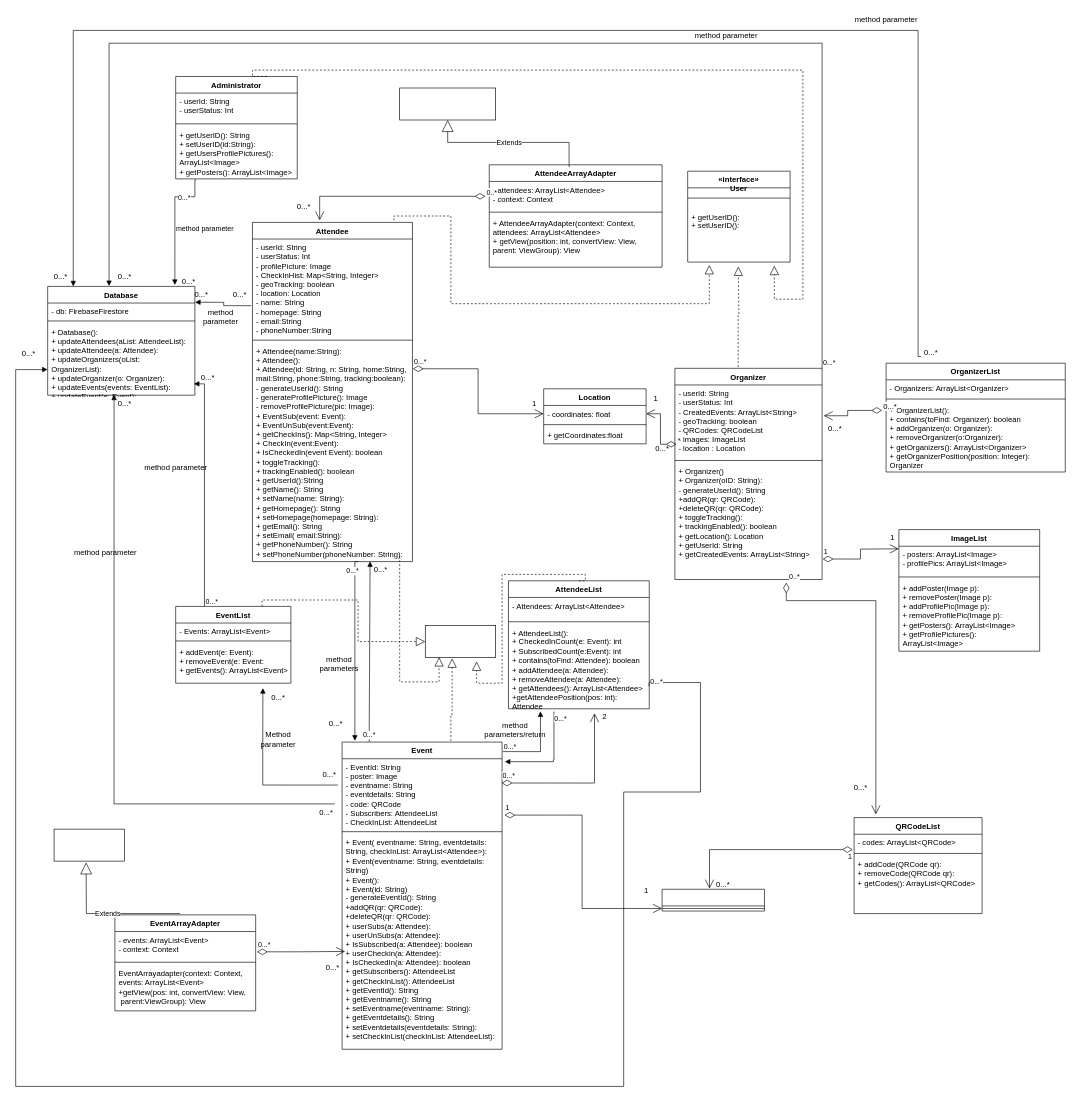
Some shapes in this 1076 by 1103 pixel diagram are drawn without their labels. The centre of each missing label's shape, as x and y in pixels:
"ArrayAdapter<Attendee>" belongs at pixel 447 103.
"ArrayAdapter<Event>" belongs at pixel 88 844.
"QRCode" belongs at pixel 712 900.
"«interface» Serializable" belongs at pixel 460 641.
